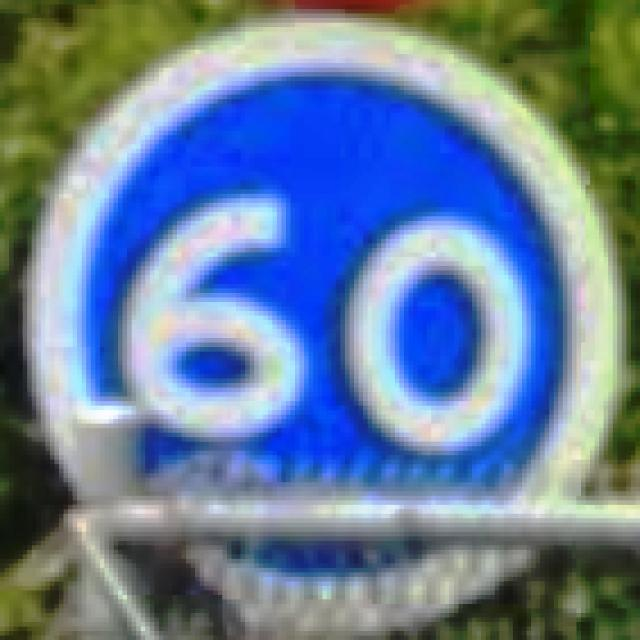min60: (21, 29, 621, 500)
